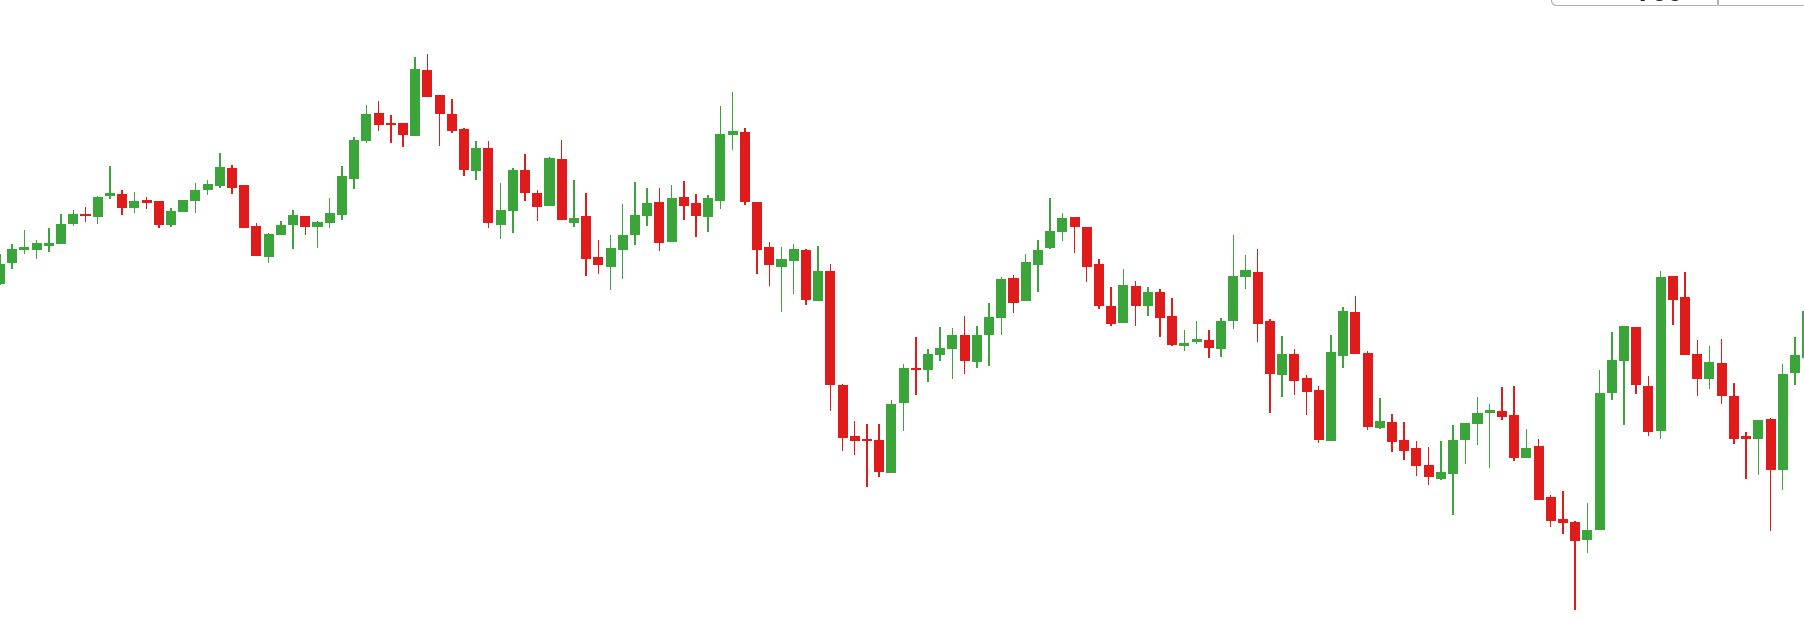buy: (1445, 437, 1608, 611)
sell: (542, 90, 752, 228), (1116, 235, 1264, 329), (359, 55, 446, 137)
